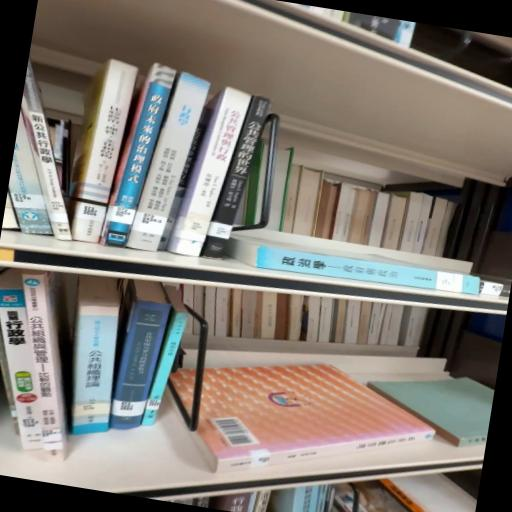flat: (193, 364, 435, 473), (224, 236, 478, 295)
